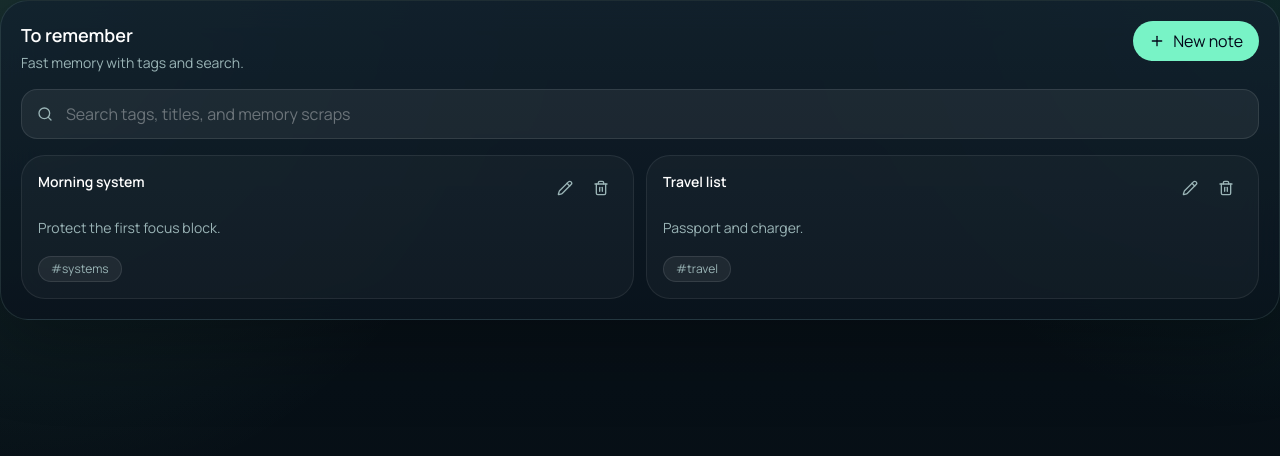
Test: NotesPanel › filters notes using the search field
Type "travel" into the field with placeholder "Search tags, titles, and memory scraps" at (640, 114), box [21,89,1259,139]
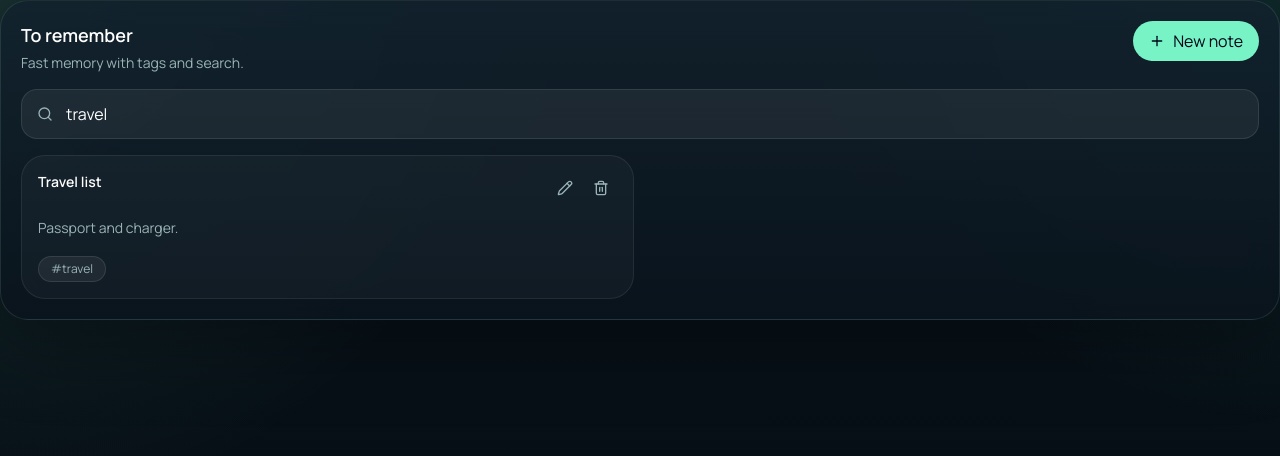
Expected: the heading "Travel list" is shown, [38,172,102,192]
Expected: the heading "Morning system" is gone
